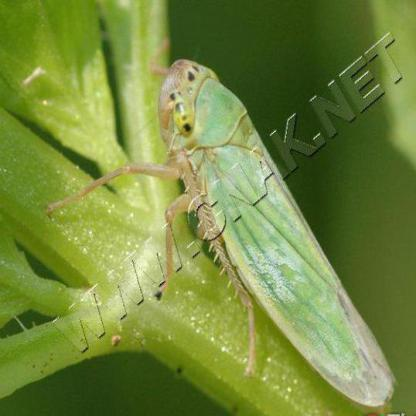Green-Leafhopper: (58, 48, 395, 404)
